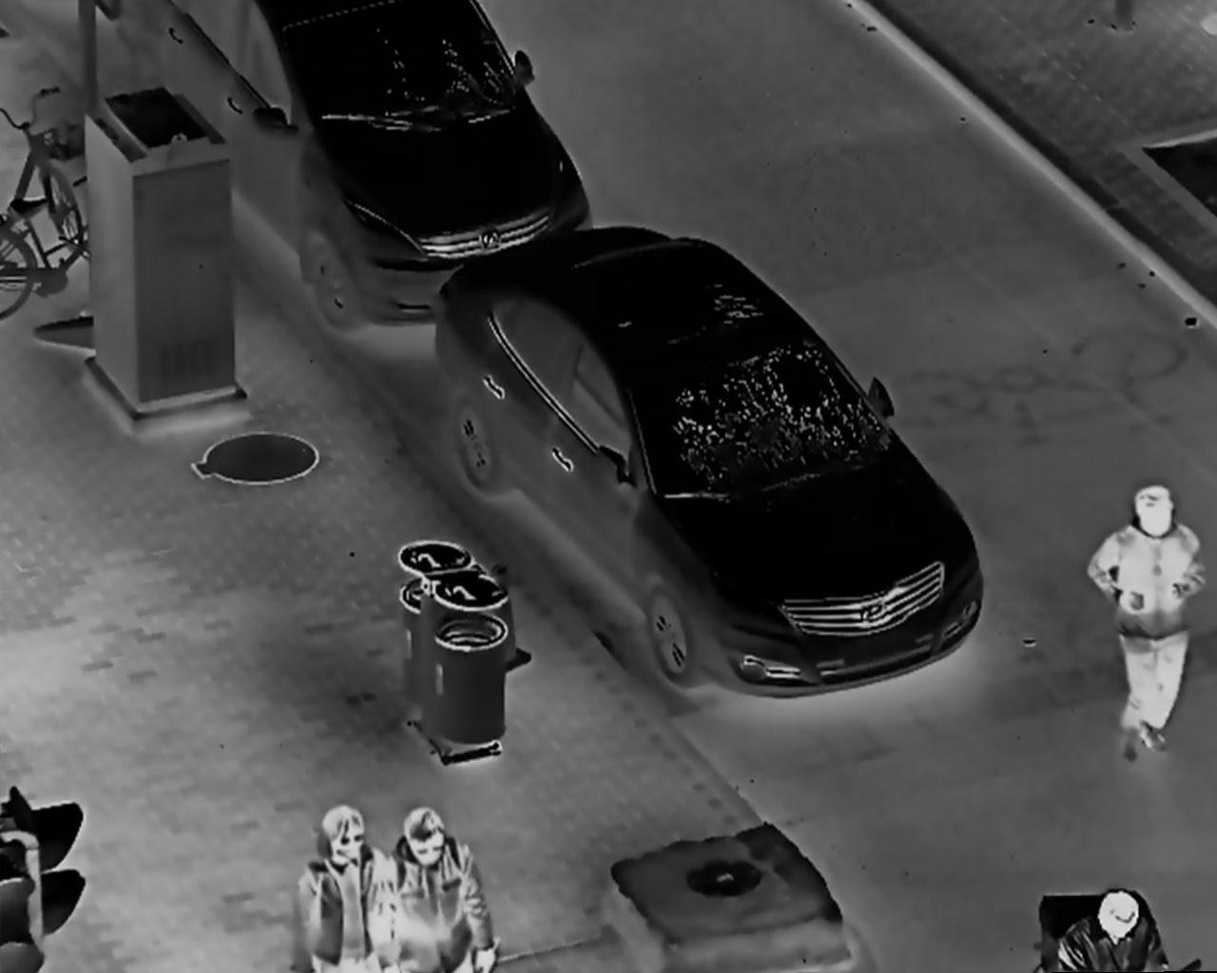person: (1091, 482, 1208, 765), (388, 806, 504, 973), (288, 802, 398, 973), (1053, 887, 1172, 973)
